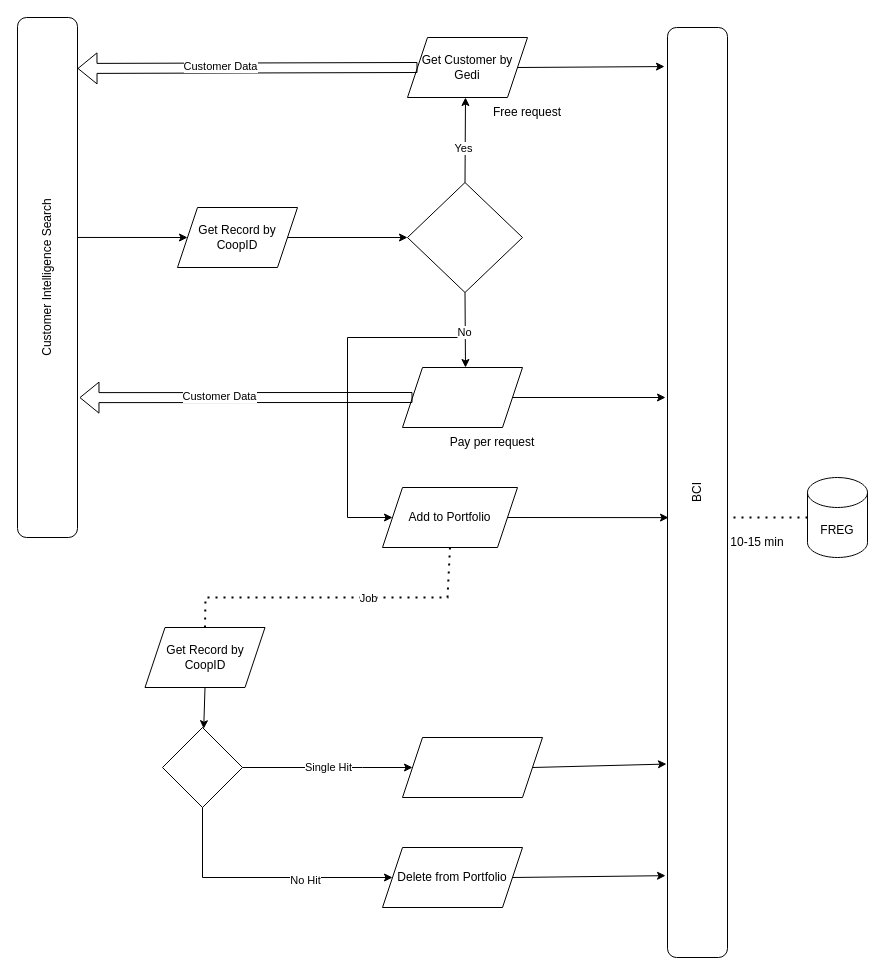
Image size: 885x975. Some labels were removed from this diagram. Each missing label, with the centre of its shape:
"Exist in portfolio?" belongs at pixel 464 237.
"Match?" belongs at pixel 202 767.
"Search Customer" belongs at pixel 462 397.
"Subscribe" belongs at pixel 472 767.
